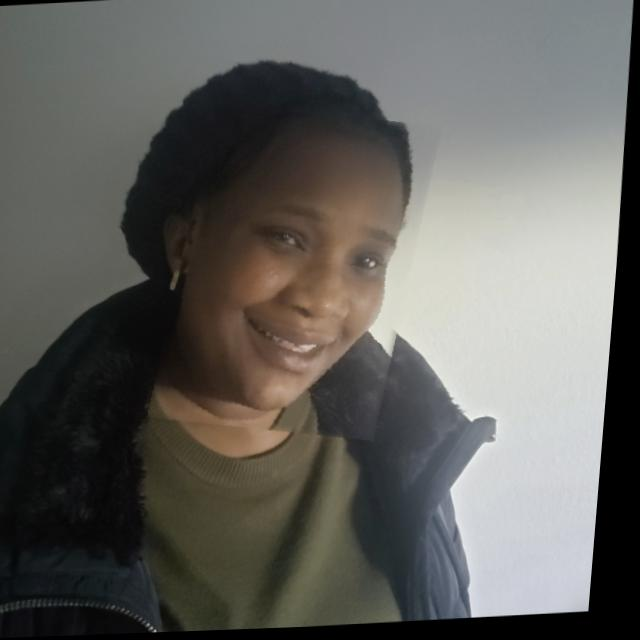happy: (158, 102, 440, 446)
